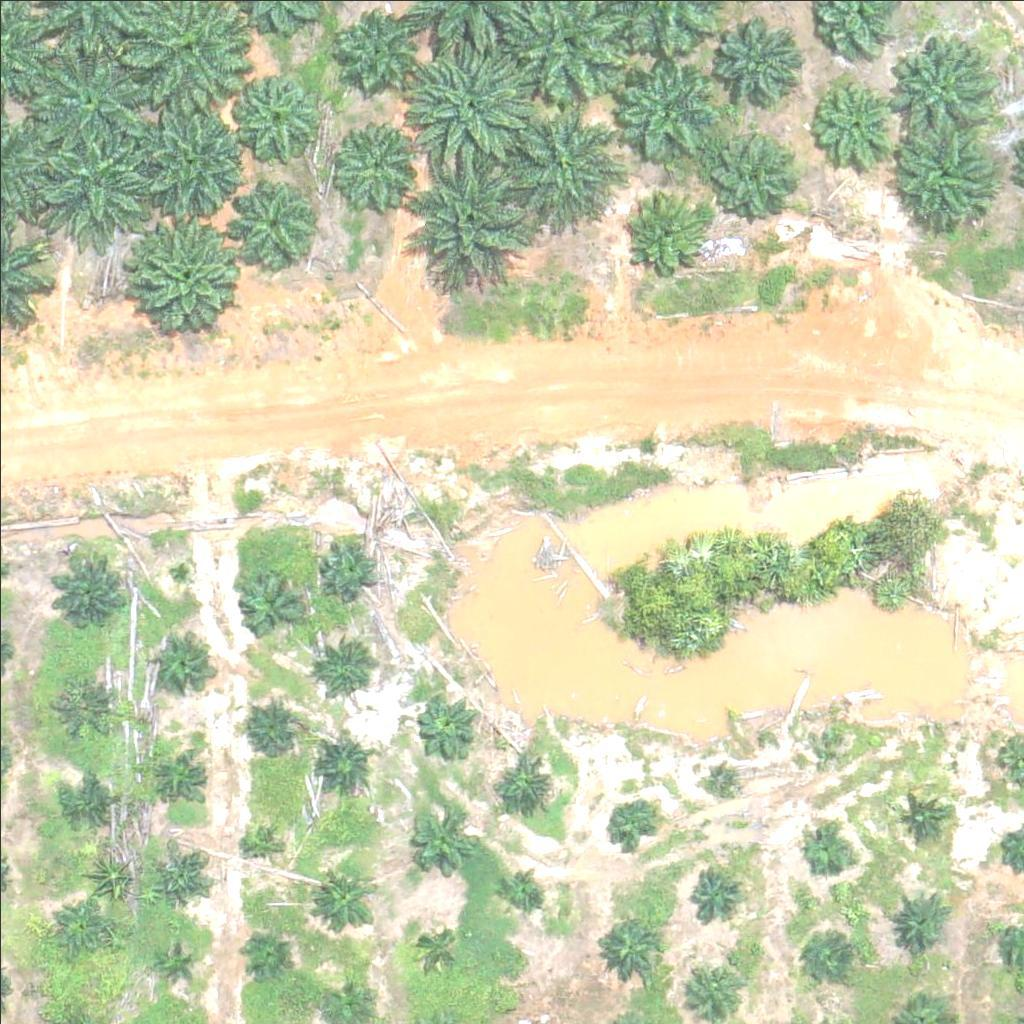Kelapa_Sawit: (24, 34, 149, 160), (30, 114, 155, 240), (126, 94, 251, 220), (404, 161, 529, 287), (409, 40, 534, 166), (495, 105, 620, 231), (133, 220, 246, 334), (613, 58, 713, 159), (890, 34, 990, 135), (894, 127, 994, 228), (326, 118, 426, 218), (703, 130, 791, 218), (810, 75, 898, 163), (227, 74, 314, 162), (228, 173, 315, 261), (334, 1, 421, 89), (624, 187, 711, 275), (710, 11, 797, 99), (52, 553, 127, 629), (238, 566, 313, 642), (151, 849, 214, 912), (414, 808, 477, 871), (889, 885, 952, 948), (317, 631, 380, 694), (418, 699, 481, 762), (150, 630, 213, 693), (318, 534, 381, 597), (316, 867, 378, 930), (599, 919, 661, 982), (681, 956, 743, 1019), (52, 671, 114, 734), (496, 754, 558, 817), (311, 730, 373, 792), (244, 702, 306, 764), (58, 896, 108, 947), (804, 830, 854, 881), (800, 929, 850, 980), (897, 787, 947, 838), (63, 775, 113, 825), (689, 865, 739, 915), (608, 798, 658, 848), (159, 752, 209, 802), (243, 927, 293, 977), (412, 918, 462, 968), (497, 861, 547, 911), (239, 818, 277, 856), (161, 943, 198, 981), (708, 770, 733, 795), (498, 993, 523, 1018), (803, 736, 828, 761)
